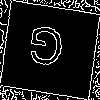G: (25, 25, 66, 76)
